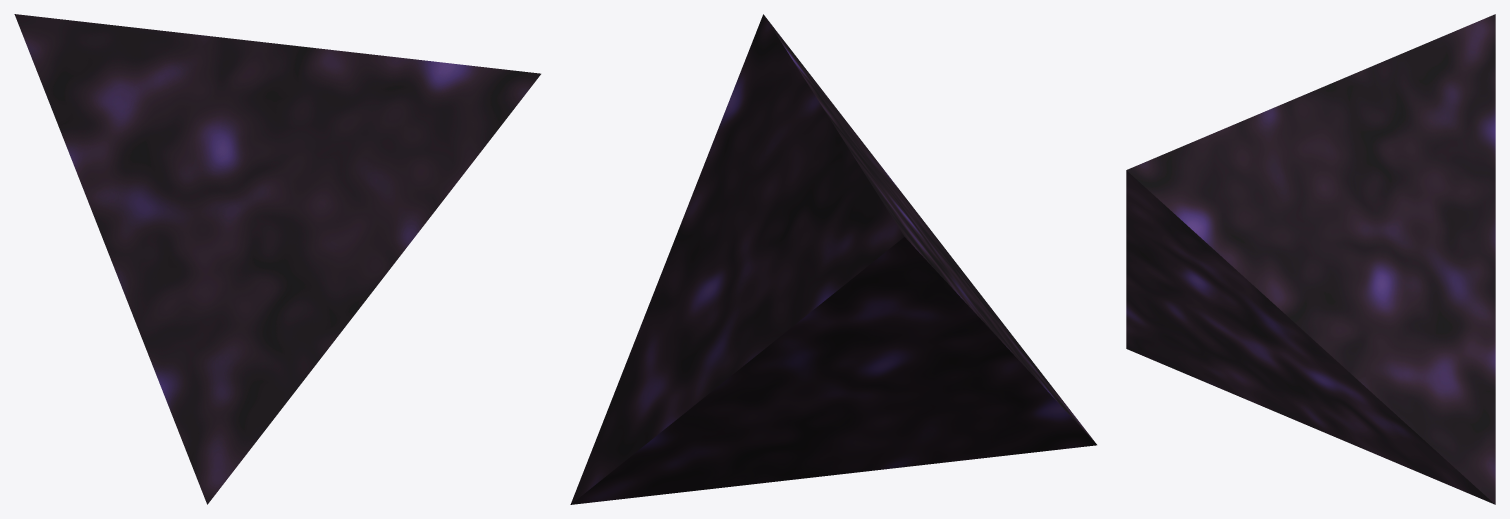
The model's file is tetrahedron.glb.
The picture shows the model from 3 angles, left to right: view 1: azimuth 30°, elevation 25°; view 2: azimuth 150°, elevation 25°; view 3: azimuth 270°, elevation 25°; orthographic projection. The views are drawn at different scales.
Visible parts, largest first — view 1: Cone; view 2: Cone; view 3: Cone.
Part boxes in pixels (x1,y1,x2,y2): Cone: (14, 14, 540, 504); Cone: (570, 14, 1096, 504); Cone: (1126, 14, 1495, 504).
Bounding box in the file's own units: 2 × 2 × 2.
1 material, 1 textured.
